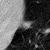node: (20, 19, 34, 30), (44, 28, 50, 35), (34, 43, 39, 48)
